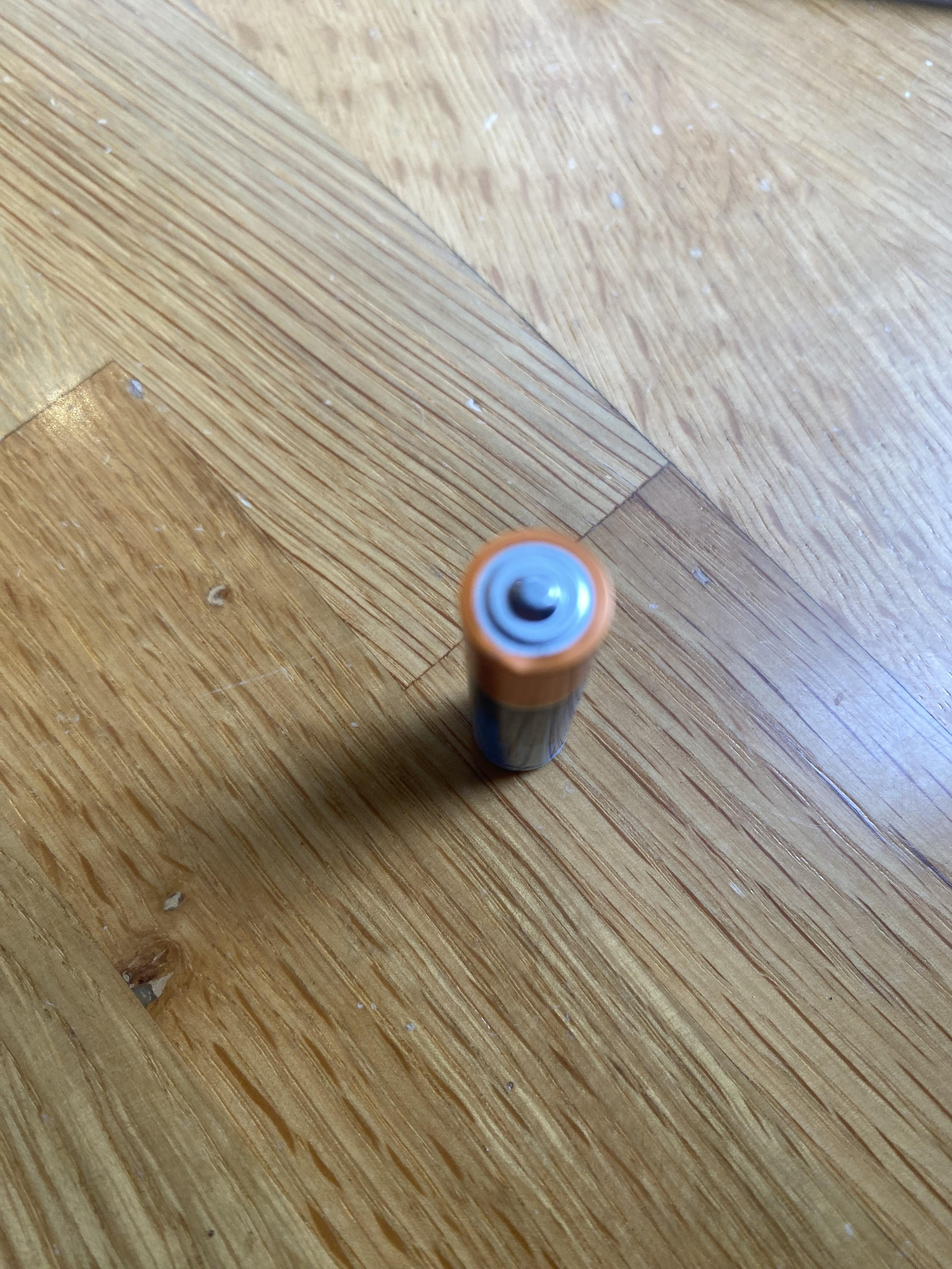AA: (457, 525, 616, 773)
